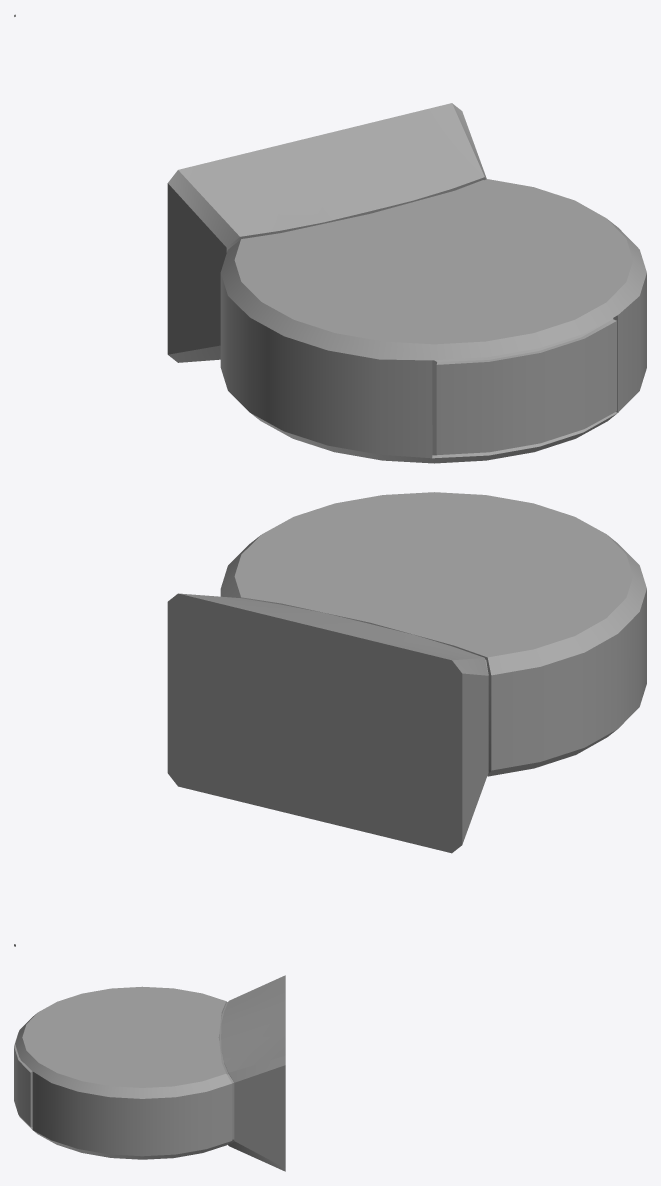
File: AlarmClock_11.obj
The picture shows the model from 3 angles, top to bottom: view 1: azimuth 30°, elevation 25°; view 2: azimuth 150°, elevation 25°; view 3: azimuth 270°, elevation 25°; orthographic projection. The views are drawn at different scales.
Parts seen in each view (by area): view 1: AlarmClock_11; view 2: AlarmClock_11; view 3: AlarmClock_11.
Boxes of the visible parts, left/top/right/bottom form: AlarmClock_11: left=14, top=14, right=646, bottom=463; AlarmClock_11: left=14, top=492, right=646, bottom=946; AlarmClock_11: left=14, top=975, right=285, bottom=1171.
Bounding box in the file's own units: 0.1722 × 0.0862 × 0.4254.
1 material, 1 textured.
